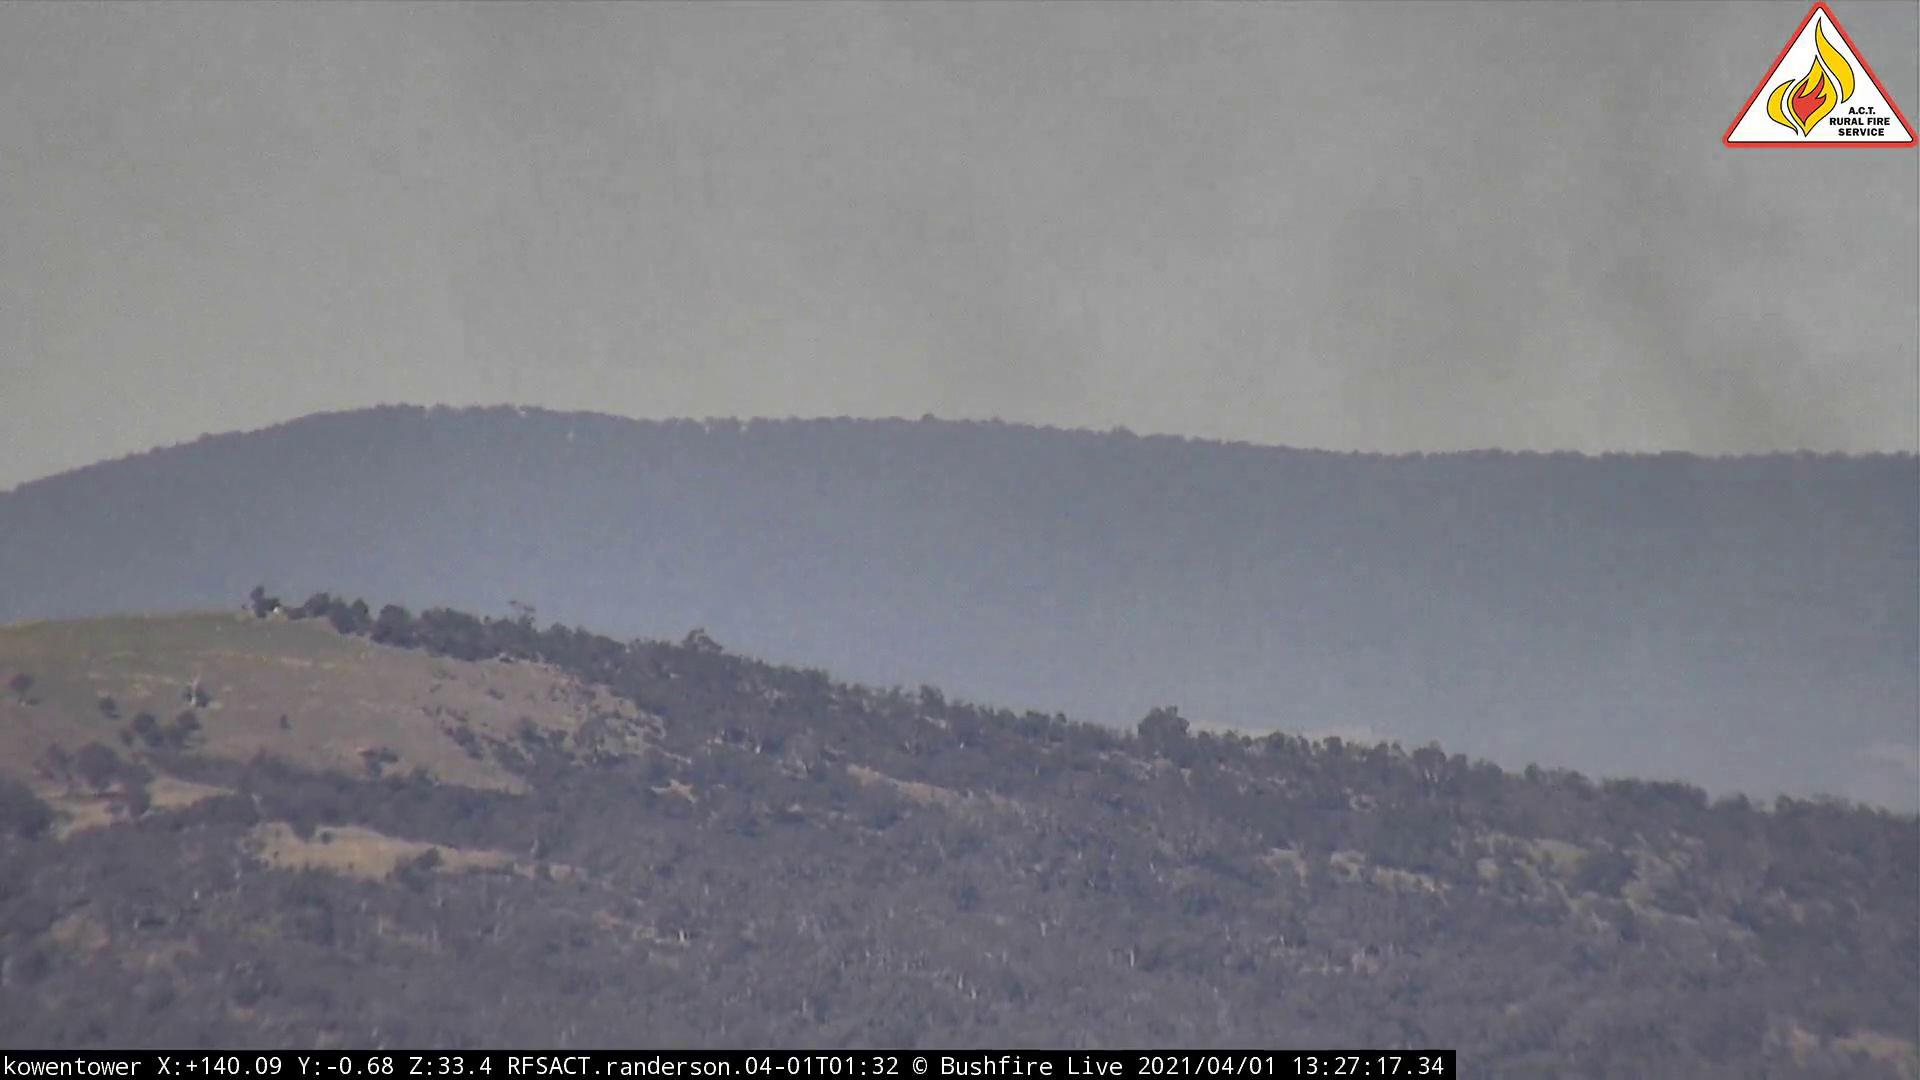Smoke: (353, 3, 1920, 578)
